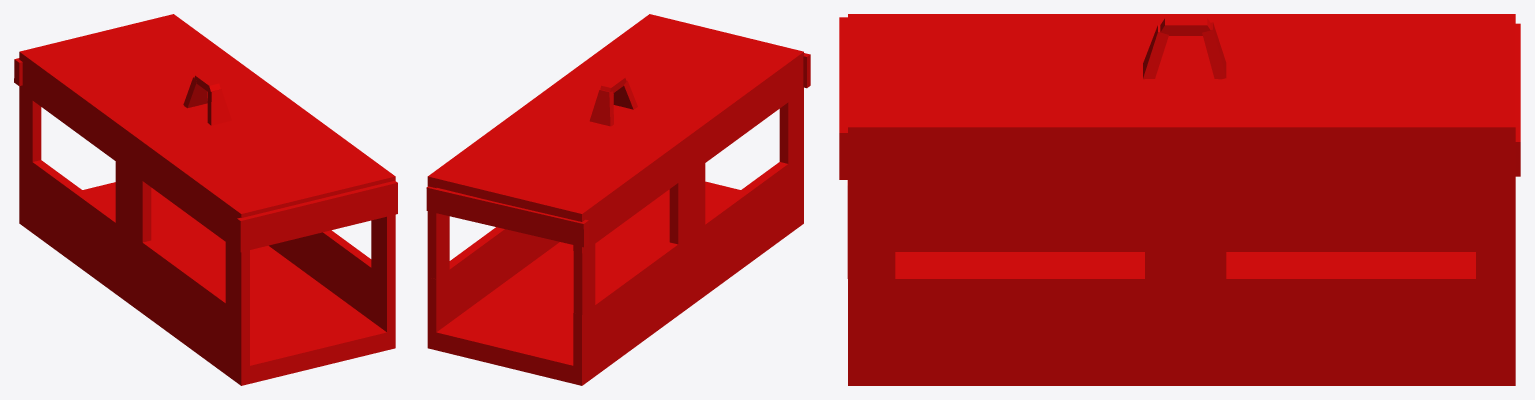
The model's file is SM_Bld_ContainerBridge_01_Collision.fbx.
3 renders of one model, left to right at view 1: azimuth 30°, elevation 25°; view 2: azimuth 150°, elevation 25°; view 3: azimuth 270°, elevation 25°, orthographic. The views are drawn at different scales.
Parts seen in each view (by area): view 1: SM_Bld_ContainerBridge_01_Collision; view 2: SM_Bld_ContainerBridge_01_Collision; view 3: SM_Bld_ContainerBridge_01_Collision.
Boxes of the visible parts, x1,y1,x2,y2 form: SM_Bld_ContainerBridge_01_Collision: [14, 14, 397, 385]; SM_Bld_ContainerBridge_01_Collision: [426, 14, 810, 385]; SM_Bld_ContainerBridge_01_Collision: [839, 14, 1520, 385].
Size of the model in its own units: 249 by 309 by 619.
